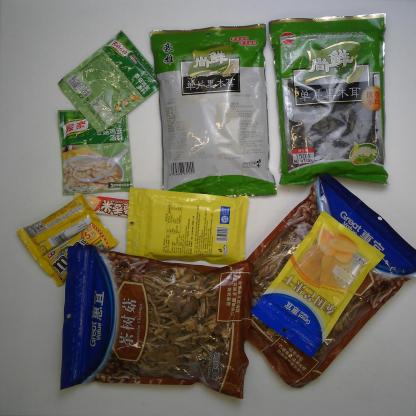Chocolate: (36, 216, 121, 288), (16, 192, 101, 261), (75, 189, 139, 220)
Dried Food: (233, 171, 416, 390), (59, 244, 255, 400), (149, 22, 277, 198), (268, 12, 390, 188)
Dried Fruit: (248, 209, 386, 359), (125, 185, 250, 267)
Seasoner: (56, 31, 159, 130), (57, 107, 134, 196)
